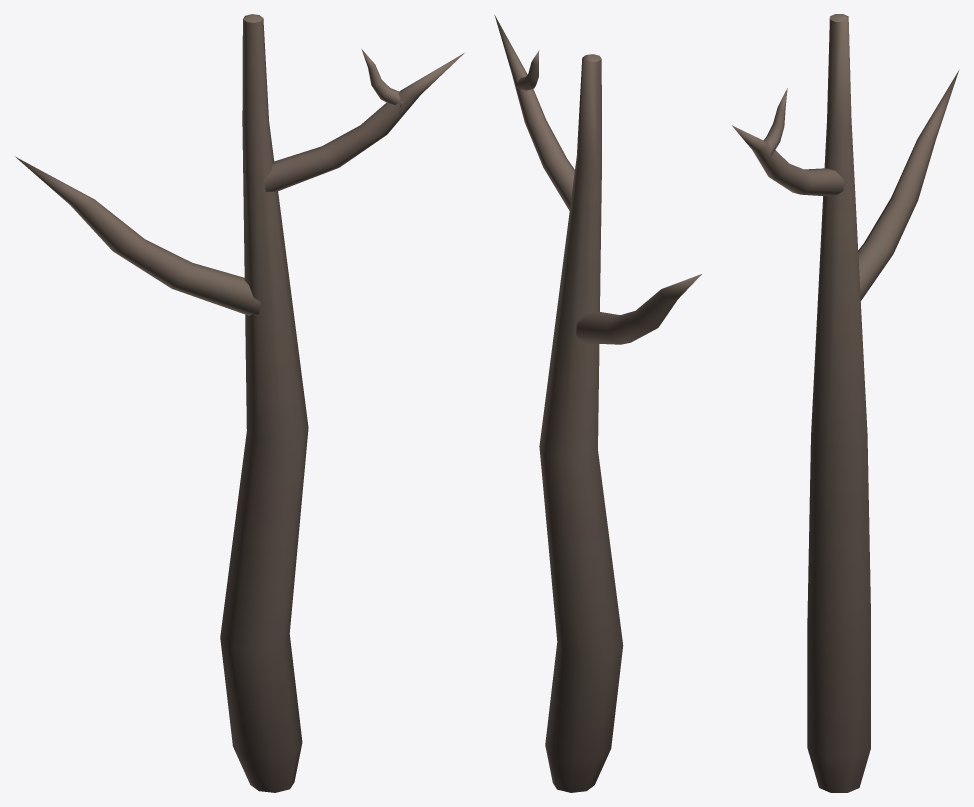
The model's file is dead-tree.glb.
3 views of the same model, side by side, from view 1: azimuth 30°, elevation 25°; view 2: azimuth 150°, elevation 25°; view 3: azimuth 270°, elevation 25° (orthographic). The views are drawn at different scales.
Parts seen in each view (by area): view 1: tree_dead_large; view 2: tree_dead_large; view 3: tree_dead_large.
Part boxes in pixels (x1,y1,x2,y2): tree_dead_large: (15, 14, 464, 792); tree_dead_large: (494, 15, 701, 792); tree_dead_large: (732, 14, 958, 792).
Bounding box in the file's own units: 2.3 × 5.07 × 1.38.
Materials: 1 (1 with a texture image).
